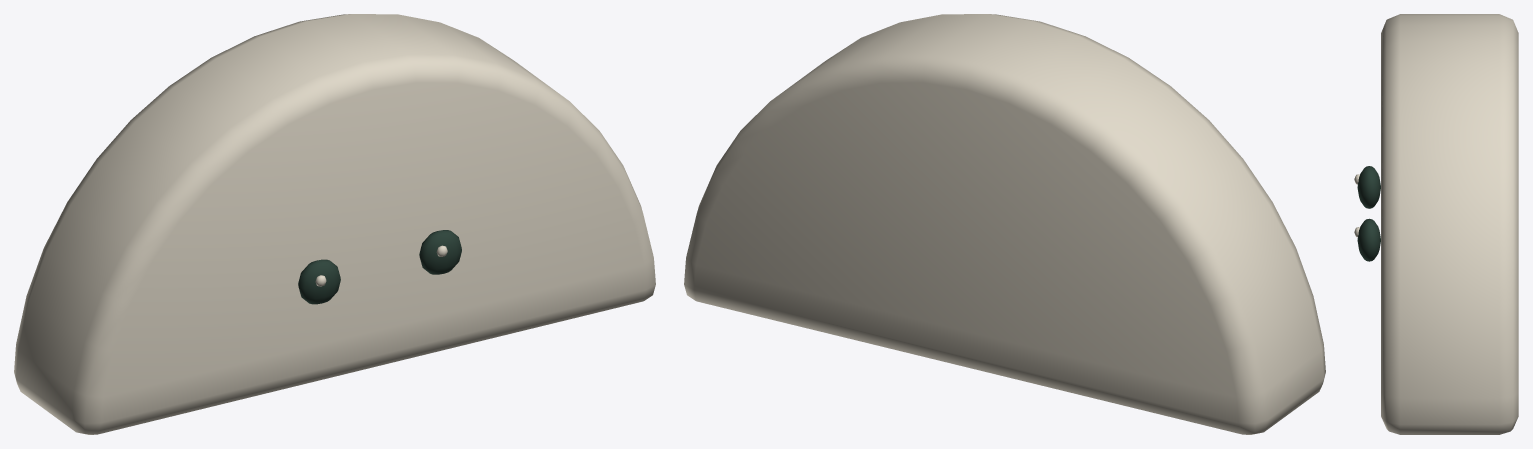
Rendered from shape_semicircle.glb.
The picture shows the model from 3 angles, left to right: view 1: azimuth 30°, elevation 25°; view 2: azimuth 150°, elevation 25°; view 3: azimuth 270°, elevation 25°; orthographic projection. The views are drawn at different scales.
Parts seen in each view (by area): view 1: color_body, body; view 2: color_body; view 3: color_body, body.
Part boxes in pixels (x1,y1,x2,y2): color_body: (14,14,655,434); body: (298,230,461,304); color_body: (684,14,1325,434); color_body: (1381,14,1518,434); body: (1354,166,1380,261).
Size of the model in its own units: 1.39 by 0.7 by 0.382.
